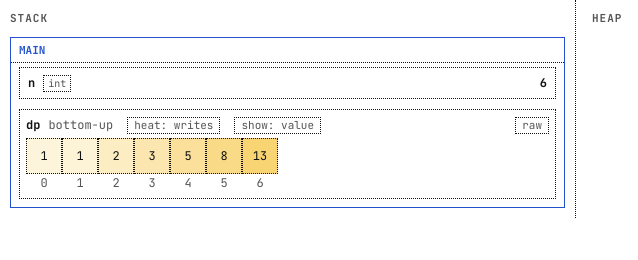
Test: MemoryView DP integration › raw toggle swaps back to the plain array cell and offers restore
Click the button with class "dp-generic-toggle": coordinates (532, 126) x1=515 y1=117 x2=549 y2=134
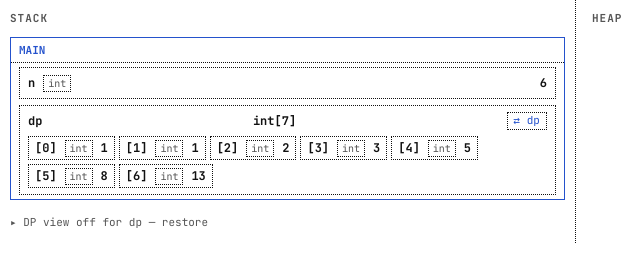
Check: the element with class "dp-panel" is gone
Check: the text "restore" is shown, box x1=10 y1=213 x2=208 y2=231
